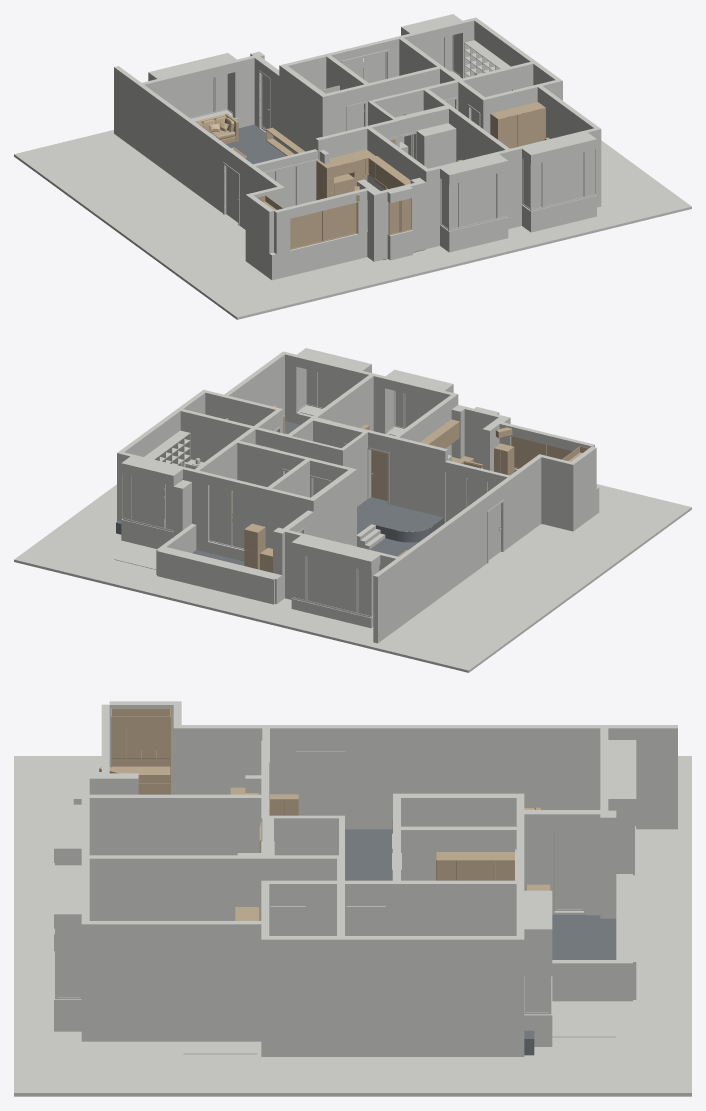
File: interaction_proxy.glb
3 renders of one model, top to bottom at view 1: azimuth 30°, elevation 25°; view 2: azimuth 150°, elevation 25°; view 3: azimuth 270°, elevation 25°, orthographic. The views are drawn at different scales.
Visible parts, largest first — view 1: SITE_GROUND.001, VIEW_WALL_W_wall_md_0006.001, VIEW_WALL_LIVING_FIX_GUEST_BATH_FULL_WALL.001, VIEW_WALL_W_wall_md_0042.001, VIEW_WALL_W_wall_md_0035.001, V4_W-MB-S_FRONT_GLASS_1.001, VIEW_WALL_W_wall_md_0034.001, V4_W-SMB-S_FRONT_GLASS_1.001, VIEW_WALL_W_wall_md_0007.001, VIEW_WALL_W_wall_md_0021.001, VIEW_WALL_W_wall_md_0030.001, VIEW_WALL_W_wall_md_0049.001 (+45 smaller); view 2: SITE_GROUND.001, VIEW_WALL_W_wall_md_0006.001, VIEW_WALL_W_wall_md_0062.001, VIEW_WALL_W_wall_md_0044.001, VIEW_WALL_W_wall_md_0005.001, VIEW_WALL_W_wall_md_0055.001, R4_UPPER_FLOOR_CONTINUOUS_STRAIGHT_THRESHOLD.001, VIEW_WALL_W_wall_md_0043.001, VIEW_WALL_LIVING_FIX_GUEST_BATH_FULL_WALL.001, LIVING_FIX_BAY_FRONT_GLASS_1.001, VIEW_WALL_W_wall_md_0049.001, VIEW_WALL_W_wall_md_0007.001 (+49 smaller); view 3: SITE_GROUND.001, VIEW_WALL_W_wall_md_0030.001, VIEW_WALL_W_wall_md_0033.001, VIEW_WALL_W_wall_md_0006.001, VIEW_WALL_W_wall_md_0021.001, VIEW_WALL_W_wall_md_0015.001, VIEW_WALL_W_wall_md_0032.001, VIEW_WALL_W_wall_md_0005.001, VIEW_WALL_W_wall_md_0025.001, FLOOR_LOWER.001, VIEW_WALL_W_wall_md_0007.001, VIEW_WALL_W_wall_md_0019.001 (+37 smaller).
Boxes of the visible parts, bbox=[...] form: SITE_GROUND.001: bbox=[14, 128, 691, 319]; VIEW_WALL_W_wall_md_0006.001: bbox=[139, 85, 227, 212]; VIEW_WALL_LIVING_FIX_GUEST_BATH_FULL_WALL.001: bbox=[282, 66, 325, 153]; VIEW_WALL_W_wall_md_0042.001: bbox=[276, 232, 367, 278]; VIEW_WALL_W_wall_md_0035.001: bbox=[533, 139, 594, 231]; V4_W-MB-S_FRONT_GLASS_1.001: bbox=[543, 152, 583, 206]; VIEW_WALL_W_wall_md_0034.001: bbox=[451, 161, 505, 251]; V4_W-SMB-S_FRONT_GLASS_1.001: bbox=[460, 174, 496, 226]; VIEW_WALL_W_wall_md_0007.001: bbox=[114, 66, 141, 150]; VIEW_WALL_W_wall_md_0021.001: bbox=[449, 107, 509, 161]; VIEW_WALL_W_wall_md_0030.001: bbox=[537, 86, 598, 138]; VIEW_WALL_W_wall_md_0049.001: bbox=[460, 62, 533, 97]; SITE_GROUND.001: bbox=[14, 484, 691, 672]; VIEW_WALL_W_wall_md_0006.001: bbox=[399, 495, 487, 624]; VIEW_WALL_W_wall_md_0062.001: bbox=[157, 547, 277, 604]; VIEW_WALL_W_wall_md_0044.001: bbox=[396, 437, 441, 516]; VIEW_WALL_W_wall_md_0005.001: bbox=[499, 456, 541, 550]; VIEW_WALL_W_wall_md_0055.001: bbox=[196, 470, 266, 561]; R4_UPPER_FLOOR_CONTINUOUS_STRAIGHT_THRESHOLD.001: bbox=[116, 421, 443, 544]; VIEW_WALL_W_wall_md_0043.001: bbox=[541, 455, 575, 531]; VIEW_WALL_LIVING_FIX_GUEST_BATH_FULL_WALL.001: bbox=[311, 470, 354, 545]; LIVING_FIX_BAY_FRONT_GLASS_1.001: bbox=[307, 556, 356, 612]; VIEW_WALL_W_wall_md_0049.001: bbox=[180, 409, 253, 462]; VIEW_WALL_W_wall_md_0007.001: bbox=[373, 559, 400, 643]; SITE_GROUND.001: bbox=[14, 756, 691, 1096]; VIEW_WALL_W_wall_md_0030.001: bbox=[89, 921, 261, 1041]; VIEW_WALL_W_wall_md_0033.001: bbox=[345, 936, 516, 1056]; VIEW_WALL_W_wall_md_0006.001: bbox=[345, 725, 600, 829]; VIEW_WALL_W_wall_md_0021.001: bbox=[89, 855, 261, 920]; VIEW_WALL_W_wall_md_0015.001: bbox=[89, 794, 261, 855]; VIEW_WALL_W_wall_md_0032.001: bbox=[261, 936, 336, 1056]; VIEW_WALL_W_wall_md_0005.001: bbox=[181, 725, 296, 794]; VIEW_WALL_W_wall_md_0025.001: bbox=[401, 880, 516, 935]; FLOOR_LOWER.001: bbox=[345, 829, 616, 959]; VIEW_WALL_W_wall_md_0007.001: bbox=[608, 725, 677, 829]; VIEW_WALL_W_wall_md_0019.001: bbox=[401, 826, 516, 880].
Size of the model in its own units: 20 by 3.37 by 17.
